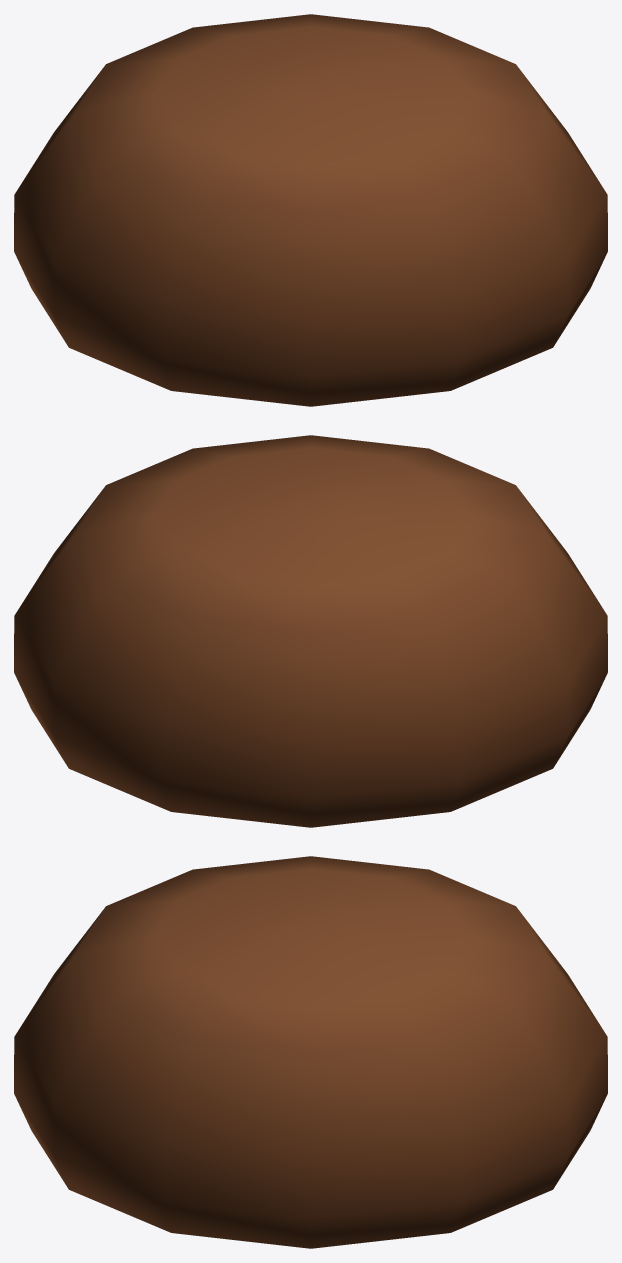
Rendered from candy_choco_4.fbx.
The picture shows the model from 3 angles, top to bottom: view 1: azimuth 30°, elevation 25°; view 2: azimuth 150°, elevation 25°; view 3: azimuth 270°, elevation 25°; orthographic projection.
Visible parts, largest first — view 1: c_c_4; view 2: c_c_4; view 3: c_c_4.
Boxes of the visible parts, bbox=[...] form: c_c_4: bbox=[14, 14, 607, 406]; c_c_4: bbox=[14, 435, 607, 827]; c_c_4: bbox=[14, 856, 607, 1248].
Bounding box in the file's own units: 117 × 48.87 × 117.
